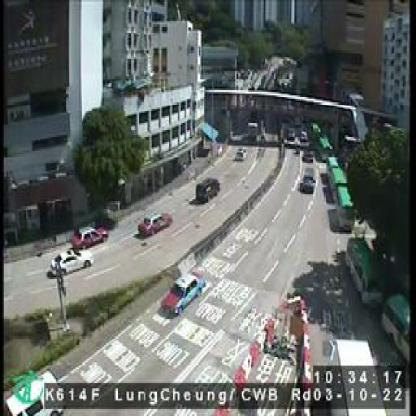Car: (161, 274, 200, 310), (52, 248, 92, 275), (70, 220, 107, 246), (138, 210, 170, 237), (196, 180, 217, 201), (300, 167, 315, 194), (300, 148, 311, 162), (235, 148, 246, 160)
Minibus: (346, 237, 381, 304), (382, 288, 407, 357), (336, 186, 352, 232), (329, 168, 341, 201), (315, 137, 329, 159), (326, 154, 337, 165)
